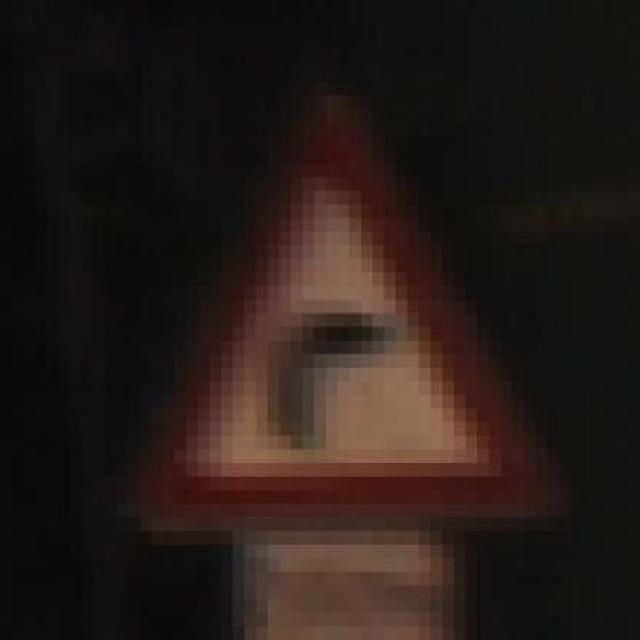Dangerous Rright Curve Ahead: (81, 95, 582, 518)
